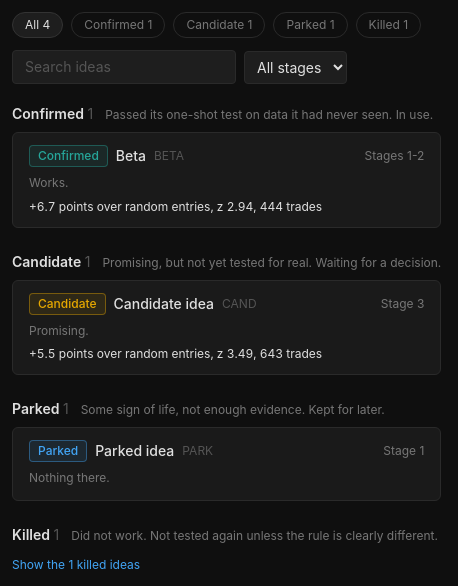
Scenario: IdeasTab › searching reveals killed ideas
In the search field labelled "Search ideas": (124, 67) [12,50,236,84], type "alpha"
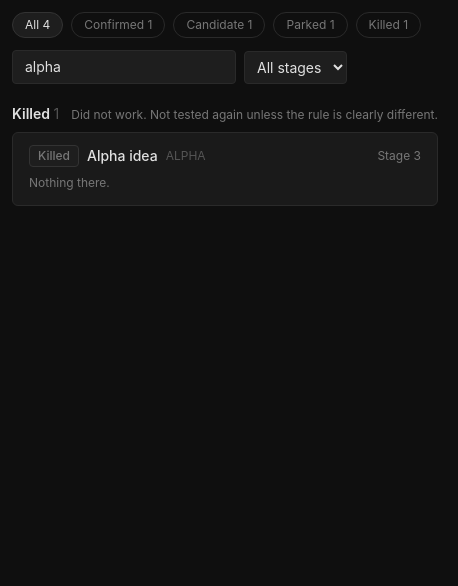
Now the text "Alpha idea" is shown, box [87,146,158,166]
